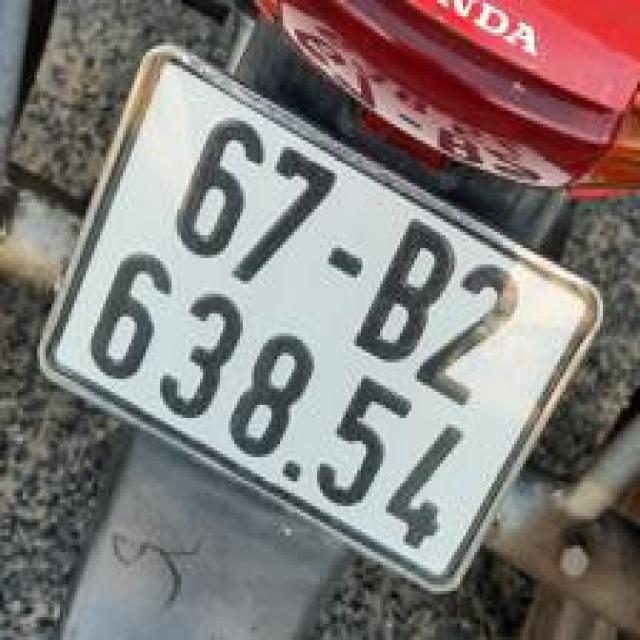2: (406, 249, 538, 424)
3: (150, 278, 257, 437)
4: (373, 404, 490, 564)
5: (305, 366, 421, 524)
6: (162, 106, 276, 274), (76, 237, 185, 394)
7: (221, 138, 348, 311)
8: (216, 317, 328, 470)
B: (341, 209, 467, 381)
